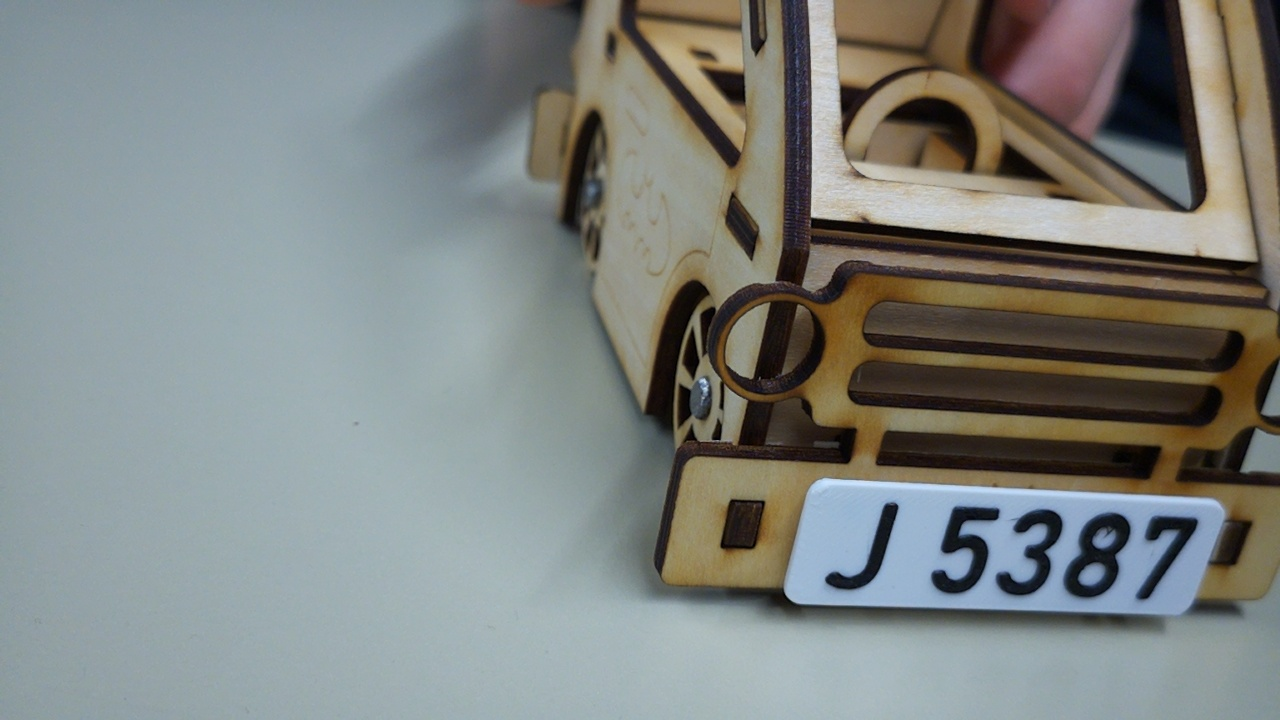license_plate: (778, 475, 1232, 622)
